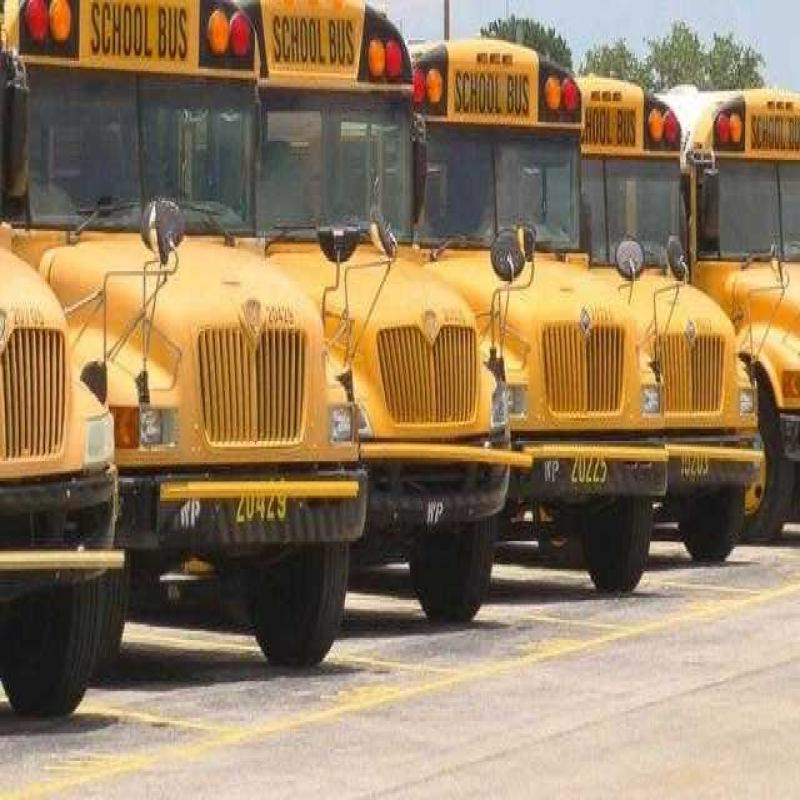bus: (61, 9, 328, 661), (415, 12, 654, 632), (556, 23, 754, 583), (337, 35, 492, 649)
